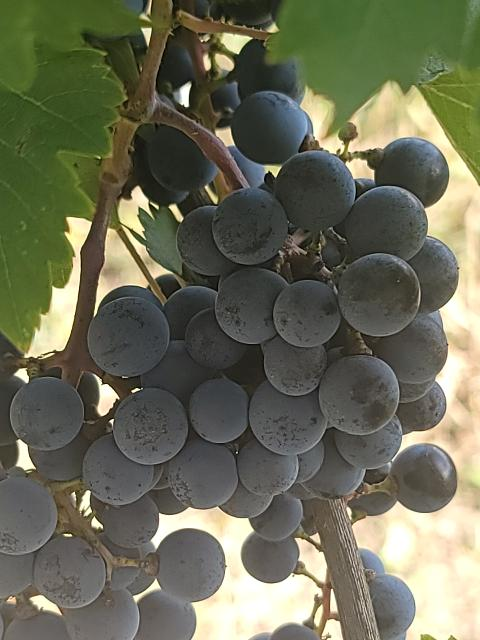grapes: (89, 140, 459, 581), (0, 376, 225, 640)
